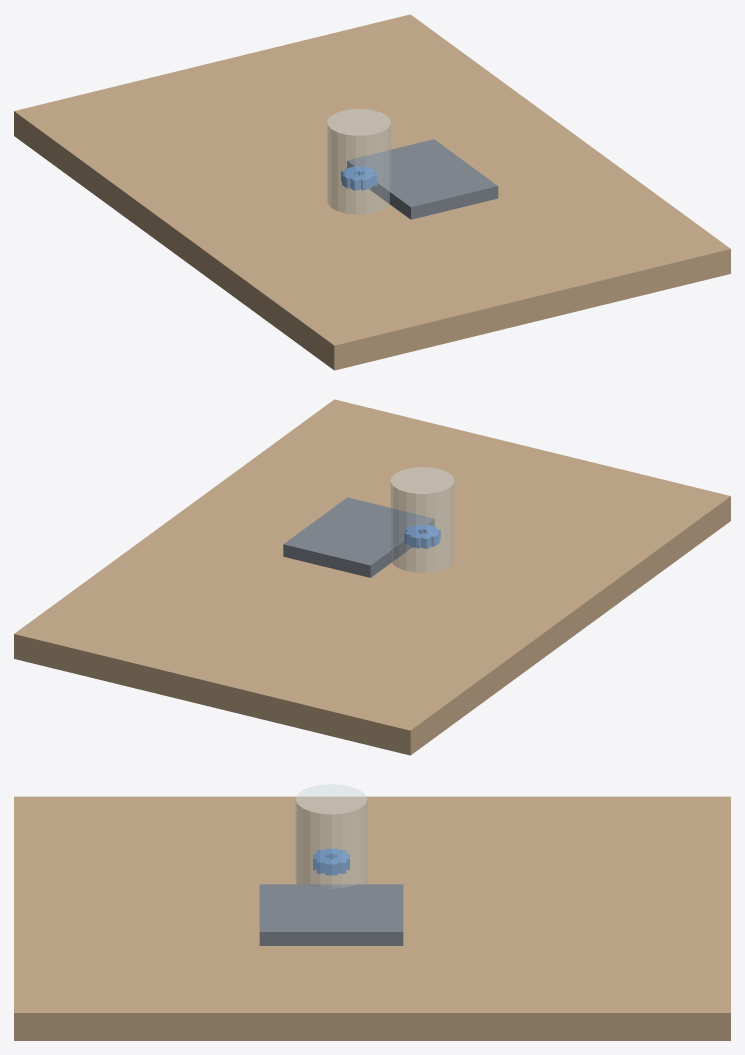
The model's file is pour_bench.gltf.
The picture shows the model from 3 angles, top to bottom: view 1: azimuth 30°, elevation 25°; view 2: azimuth 150°, elevation 25°; view 3: azimuth 270°, elevation 25°; orthographic projection. The views are drawn at different scales.
Visible parts, largest first — view 1: Table, Tray, Beaker; view 2: Table, Tray, Beaker; view 3: Table, Tray, Beaker.
Boxes of the visible parts, bbox=[...] form: Table: bbox=[14, 14, 730, 370]; Tray: bbox=[347, 139, 498, 219]; Beaker: bbox=[327, 109, 390, 214]; Table: bbox=[14, 399, 730, 755]; Tray: bbox=[283, 497, 434, 577]; Beaker: bbox=[390, 467, 454, 572]; Table: bbox=[14, 796, 730, 1040]; Tray: bbox=[259, 884, 403, 945]; Beaker: bbox=[295, 784, 367, 888].
Bounding box in the file's own units: 0.5 × 0.125 × 0.7.
